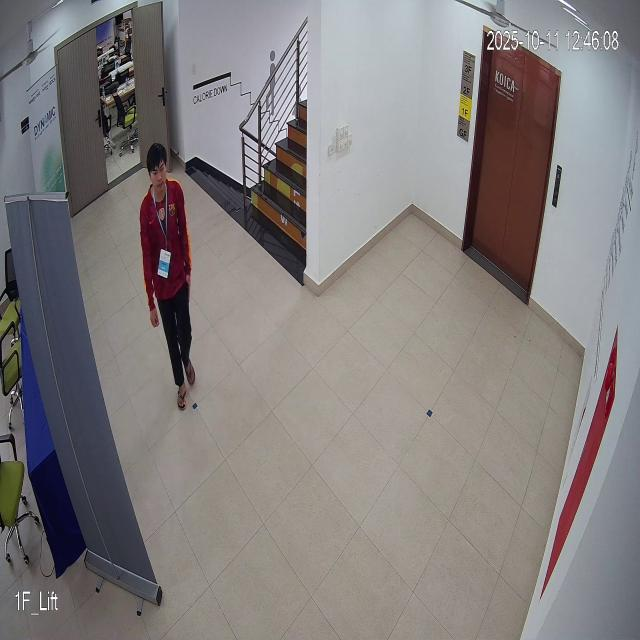face: (145, 138, 171, 201)
